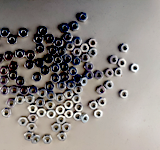nut: (7, 35, 18, 45), (18, 28, 29, 38), (1, 108, 12, 118), (28, 114, 39, 124), (34, 35, 45, 45), (38, 26, 48, 36), (60, 23, 70, 33), (70, 22, 80, 32), (4, 52, 14, 62), (15, 77, 25, 87), (18, 117, 28, 127), (27, 123, 37, 133), (47, 110, 57, 120), (43, 135, 53, 145), (33, 73, 43, 83), (29, 86, 39, 96), (15, 95, 25, 105), (26, 51, 36, 61), (94, 71, 104, 81), (130, 63, 140, 73), (31, 135, 41, 145), (45, 34, 55, 44), (57, 133, 68, 142), (56, 116, 67, 125), (46, 92, 57, 101), (45, 83, 56, 92), (6, 99, 17, 108), (35, 44, 46, 53), (0, 29, 10, 38), (78, 13, 88, 22), (0, 77, 9, 87), (0, 66, 9, 76), (97, 86, 106, 96), (37, 109, 47, 118), (28, 105, 38, 114), (0, 86, 9, 96), (64, 101, 74, 110), (57, 82, 67, 91), (41, 67, 51, 76), (25, 61, 35, 70), (15, 50, 25, 59), (63, 33, 73, 42), (48, 47, 58, 56), (72, 57, 82, 66), (68, 67, 78, 76), (84, 63, 94, 72), (65, 42, 75, 51), (51, 64, 61, 73), (51, 74, 61, 83), (60, 73, 70, 82), (64, 90, 74, 99), (75, 103, 84, 113), (81, 114, 90, 124), (89, 101, 98, 111), (24, 133, 34, 142), (89, 48, 98, 58), (9, 62, 19, 71), (72, 95, 82, 104), (10, 86, 19, 96), (63, 54, 72, 64), (36, 98, 46, 107), (62, 124, 72, 133), (49, 46, 58, 56), (55, 94, 65, 103), (38, 89, 48, 98), (58, 47, 67, 57), (95, 110, 104, 119), (74, 113, 83, 122), (98, 98, 107, 107), (120, 90, 129, 99), (105, 81, 114, 90), (110, 56, 119, 65), (89, 39, 98, 48), (74, 86, 83, 95), (73, 37, 82, 46), (56, 106, 65, 115), (73, 48, 82, 57), (81, 44, 90, 53), (45, 55, 54, 64), (79, 77, 88, 86), (54, 55, 63, 64), (26, 96, 35, 105), (46, 101, 55, 110), (120, 44, 130, 52), (55, 38, 63, 48), (86, 71, 94, 80), (52, 124, 61, 132), (106, 69, 114, 78), (115, 68, 123, 77), (36, 59, 44, 68), (61, 64, 70, 72), (20, 86, 28, 95), (67, 81, 76, 89), (65, 110, 74, 118), (119, 59, 127, 67), (82, 54, 90, 62), (10, 73, 17, 80), (0, 55, 4, 64)
